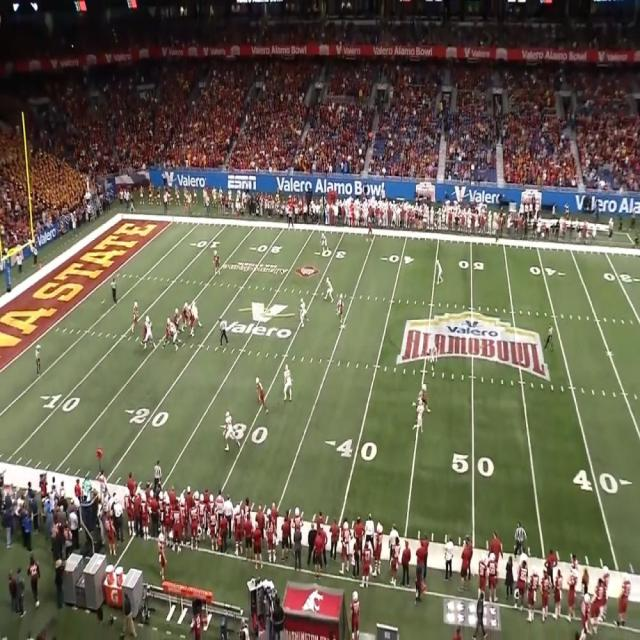db: (283, 364, 292, 400), (416, 399, 424, 436), (326, 274, 333, 304), (430, 342, 436, 370), (436, 260, 442, 283), (322, 233, 327, 251)
lb: (226, 411, 234, 451), (299, 295, 306, 324)
qb: (131, 298, 140, 332)
skill: (256, 378, 266, 412), (419, 385, 430, 412), (366, 216, 374, 242), (337, 293, 343, 323), (214, 250, 219, 274)
